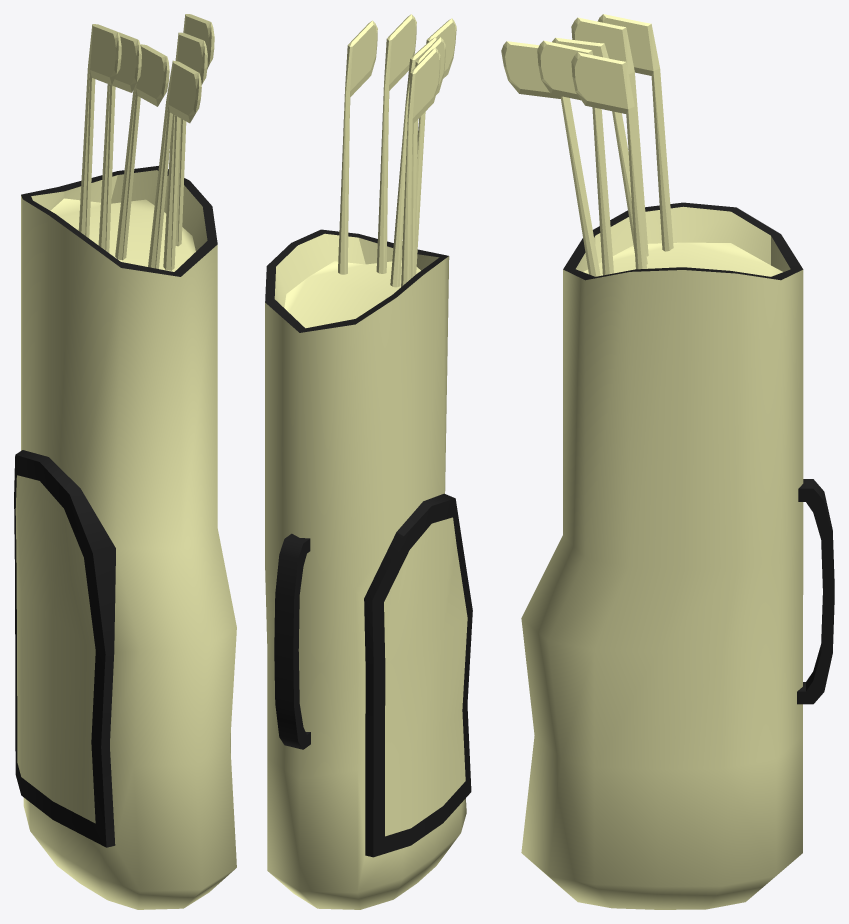
The model's file is golfbag.FBX.
3 views of the same model, side by side, from view 1: azimuth 30°, elevation 25°; view 2: azimuth 150°, elevation 25°; view 3: azimuth 270°, elevation 25° (orthographic). The views are drawn at different scales.
Parts seen in each view (by area): view 1: Box001; view 2: Box001; view 3: Box001.
Part boxes in pixels (<box>): Box001: <box>14,14,236,909</box>; Box001: <box>265,14,472,909</box>; Box001: <box>501,14,834,909</box>.
Bounding box in the file's own units: 27.81 × 154 × 54.61.
